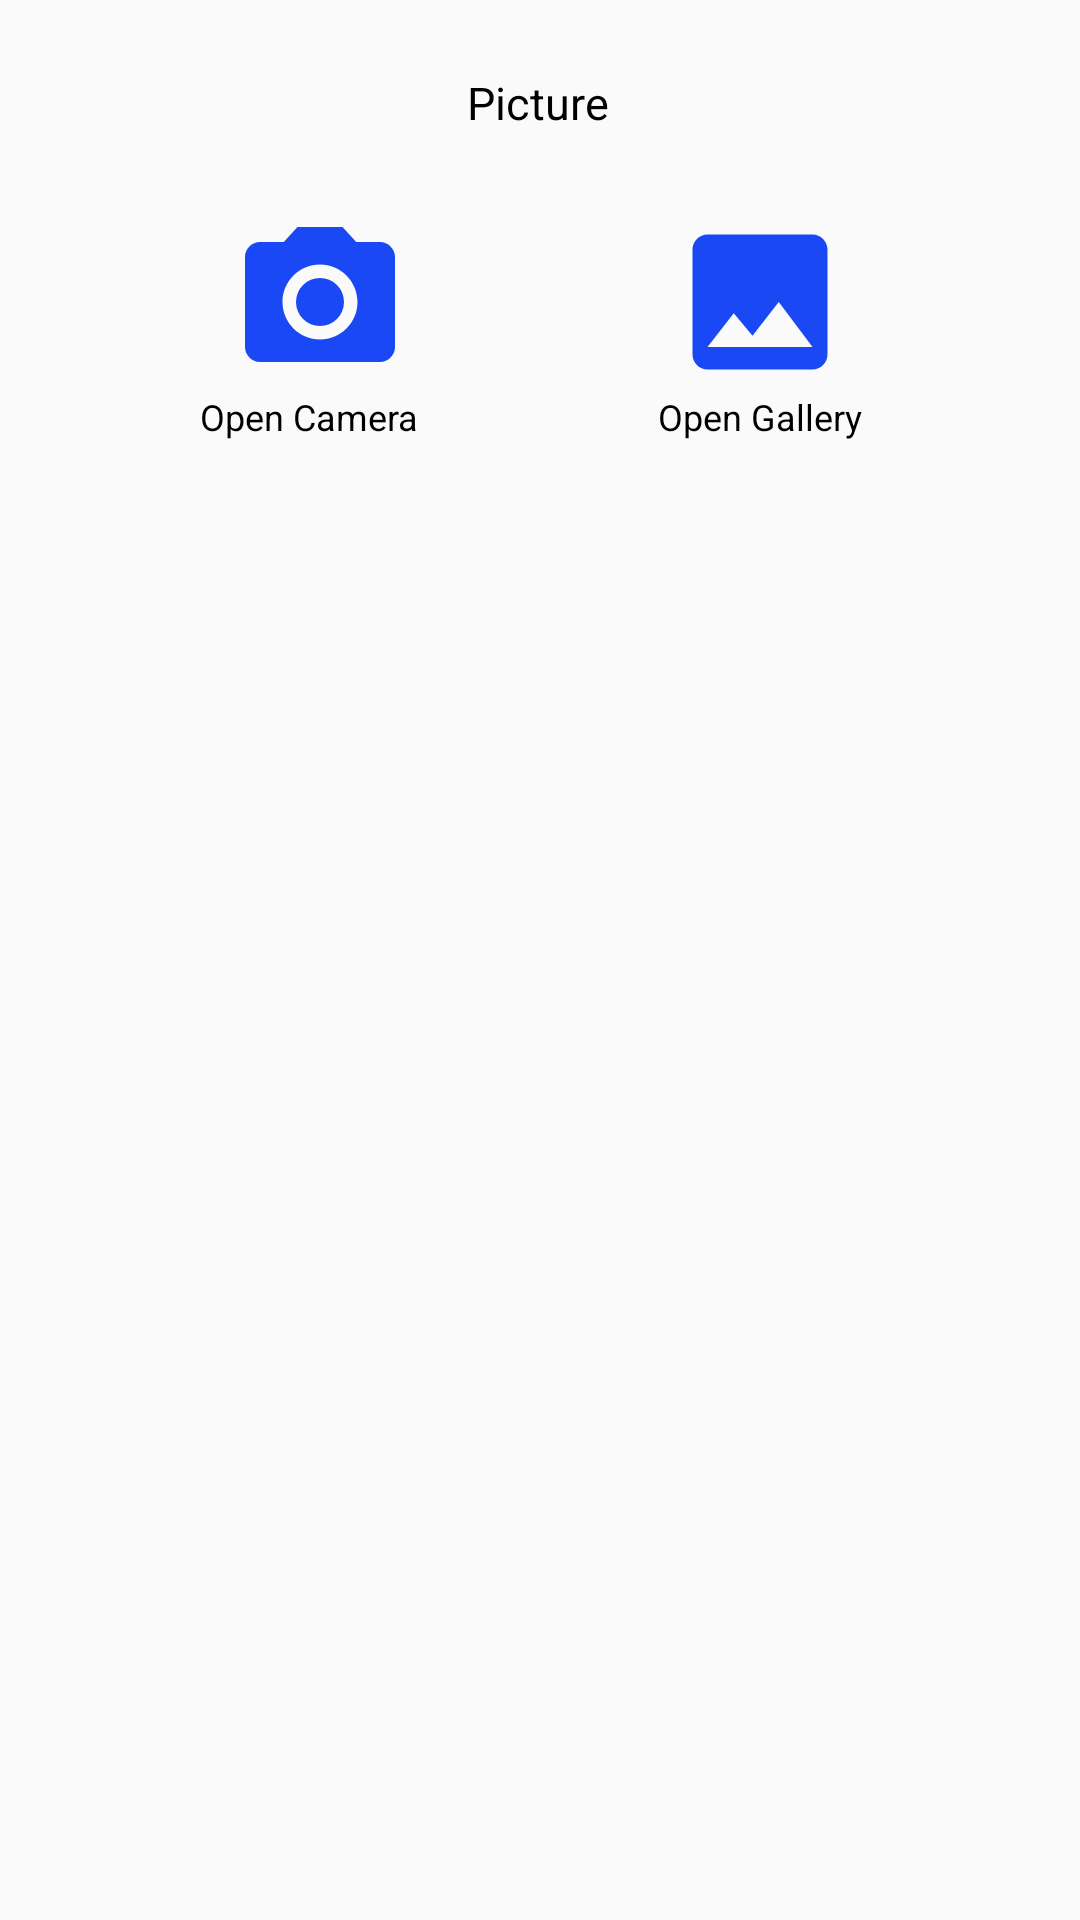

Point at icon controls on the screen. Image size 1080 x 1920, points as point (x, y).
insert photo: point (760, 302)
